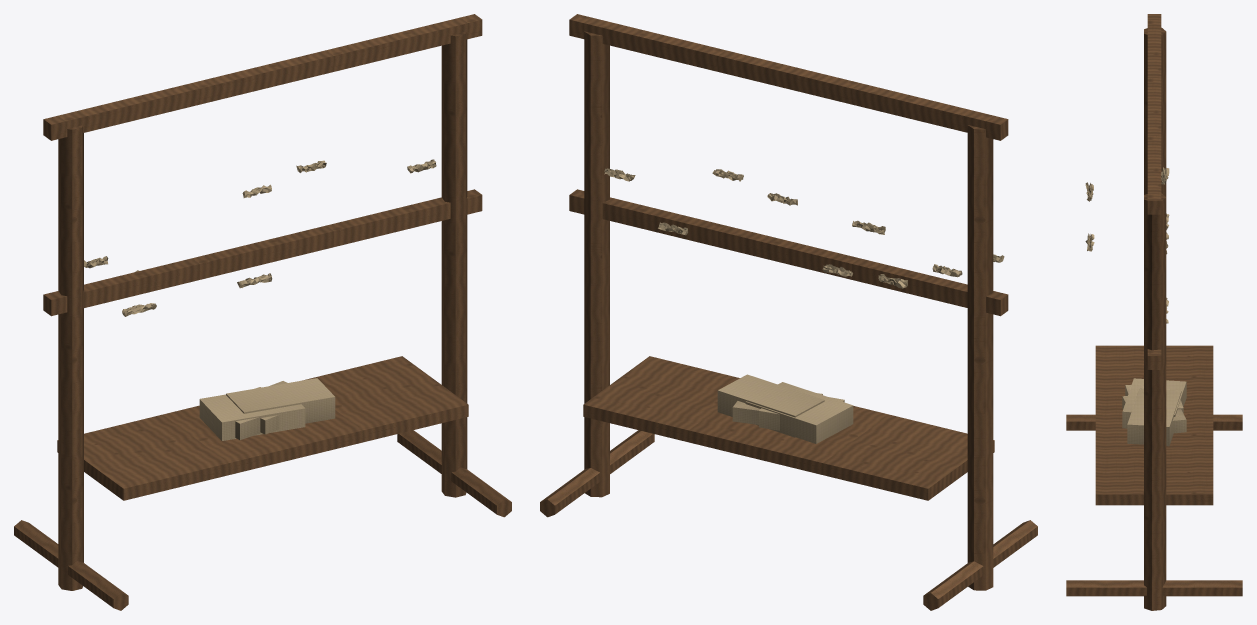
The model's file is rack_cloth.glb.
3 views of the same model, side by side, from view 1: azimuth 30°, elevation 25°; view 2: azimuth 150°, elevation 25°; view 3: azimuth 270°, elevation 25° (orthographic). The views are drawn at different scales.
Parts seen in each view (by area): view 1: rack_cloth; view 2: rack_cloth; view 3: rack_cloth.
Boxes of the visible parts, x1,y1,x2,y2 form: rack_cloth: (14, 14, 511, 610); rack_cloth: (540, 14, 1037, 610); rack_cloth: (1066, 14, 1242, 610).
Size of the model in its own units: 2.25 by 2.34 by 0.9.
Materials: 2 (2 with a texture image).
